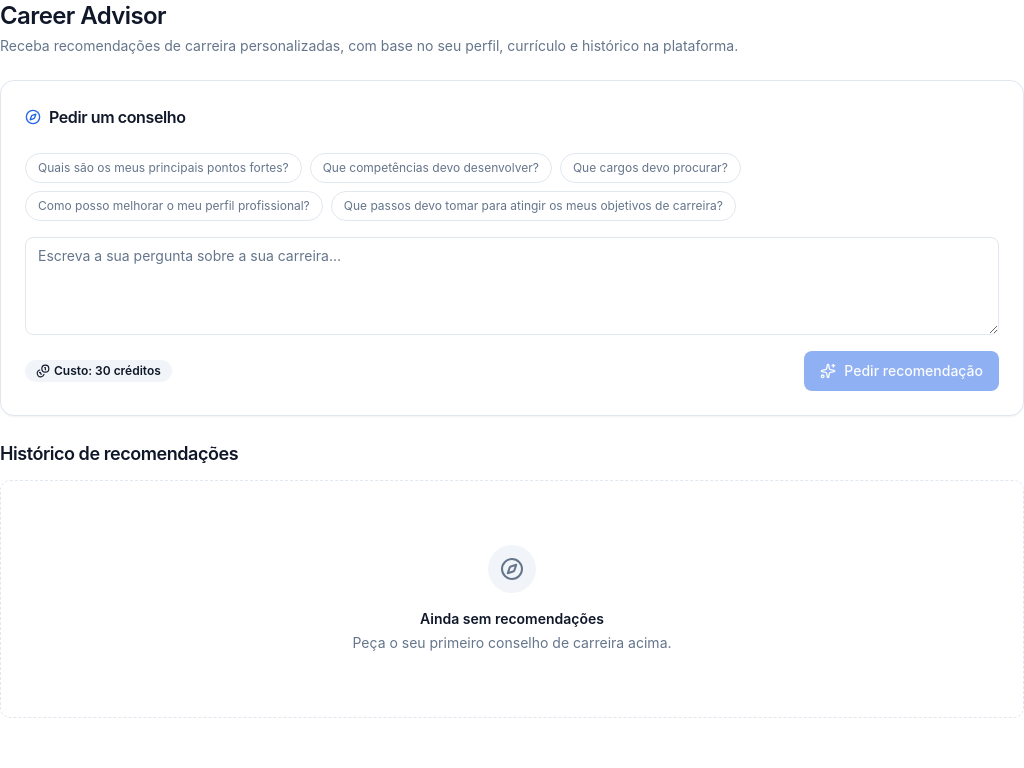
CareerAdvisorPage › submits a custom question and renders the structured response
Expected: the text "Custo: 30 créditos" is shown, [25,360,172,382]
Type "How can I grow into a staff role?" into the text box named "Pergunta para o Career Advisor" at {"x": 512, "y": 286}, box [25,237,999,335]
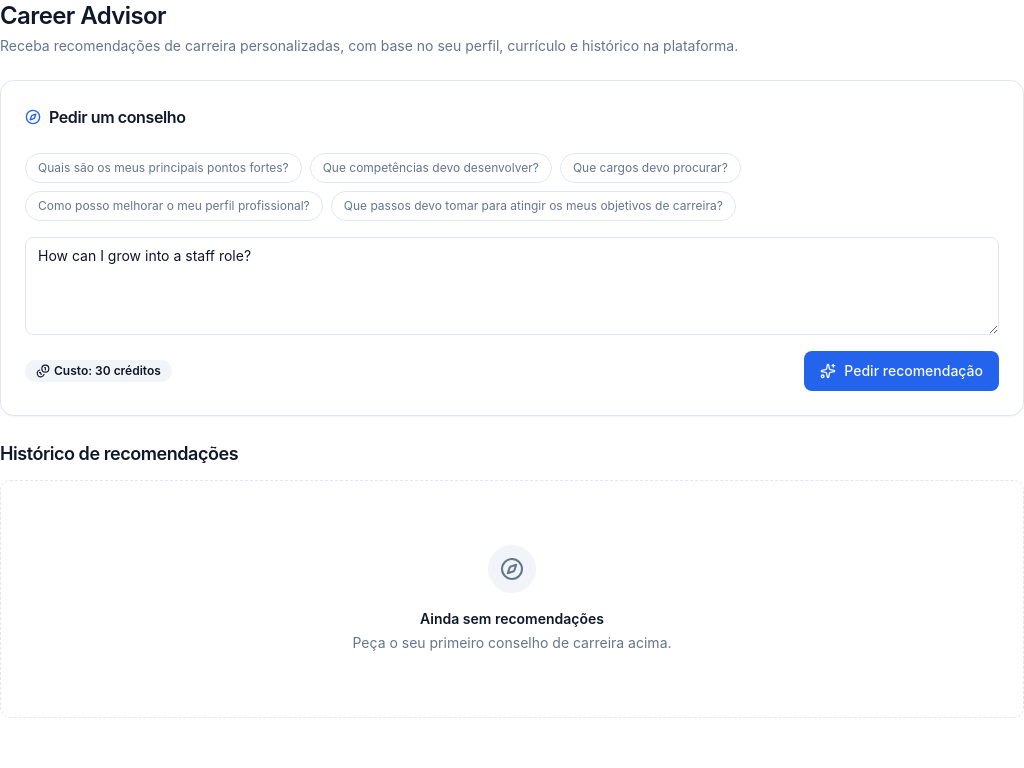
Click the button "Pedir recomendação" at {"x": 902, "y": 371}, box [804,351,999,391]
(page scrolled)
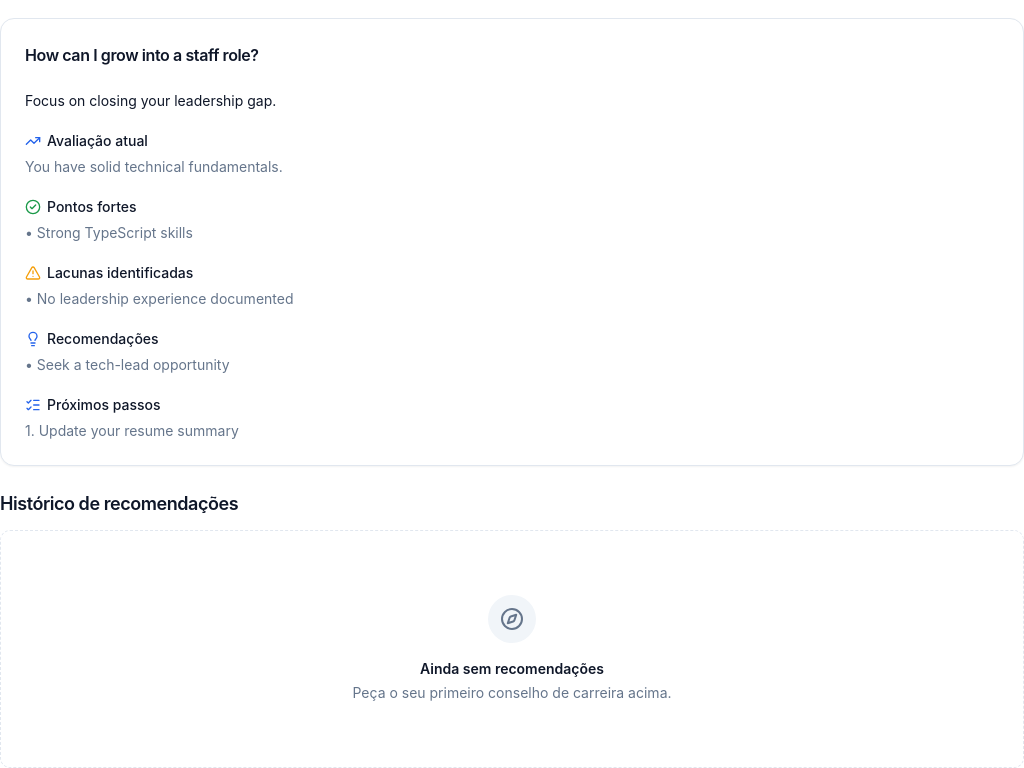
Expected: the text "You have solid technical fundamentals." is shown, [25,158,283,175]
Expected: the list item "• Strong TypeScript skills" is shown, [25,224,193,241]
Expected: the list item "• No leadership experience documented" is shown, [25,290,294,307]
